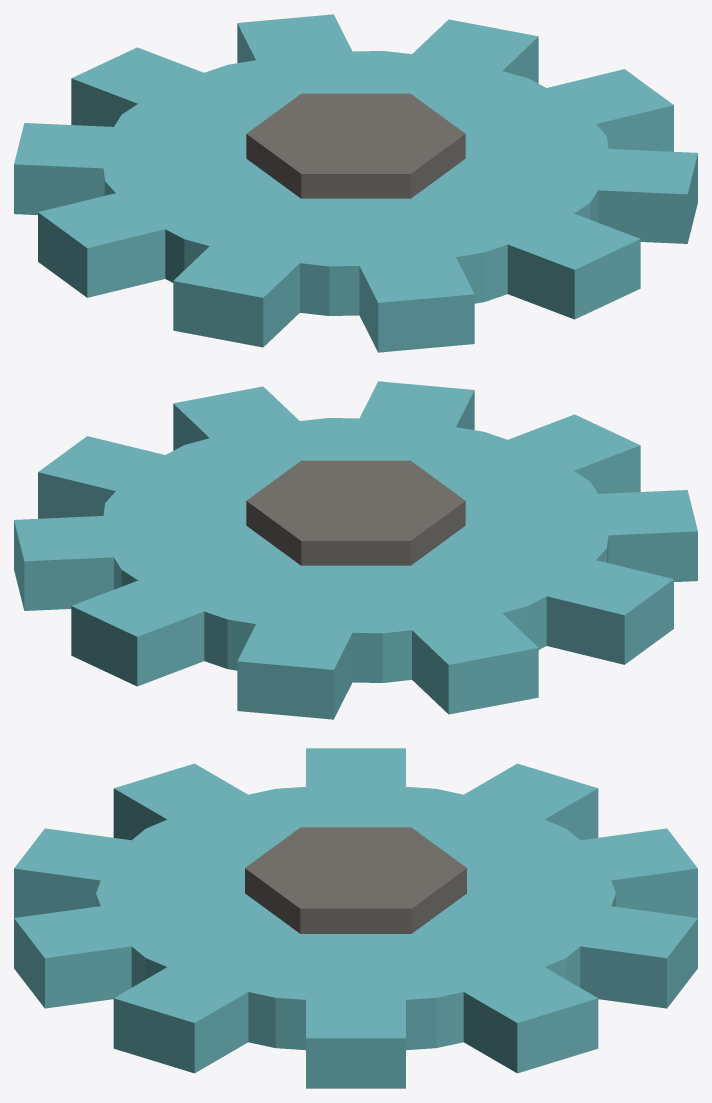
Rendered from blade.fbx.
3 views of the same model, one above another, from view 1: azimuth 30°, elevation 25°; view 2: azimuth 150°, elevation 25°; view 3: azimuth 270°, elevation 25° (orthographic).
Parts seen in each view (by area): view 1: blade; view 2: blade; view 3: blade.
Boxes of the visible parts, box(x1,y1,x2,y2) form: blade: box(14, 14, 697, 352); blade: box(14, 381, 697, 719); blade: box(14, 748, 697, 1088).
Bounding box in the file's own units: 0.7416 × 0.09 × 0.7387.
